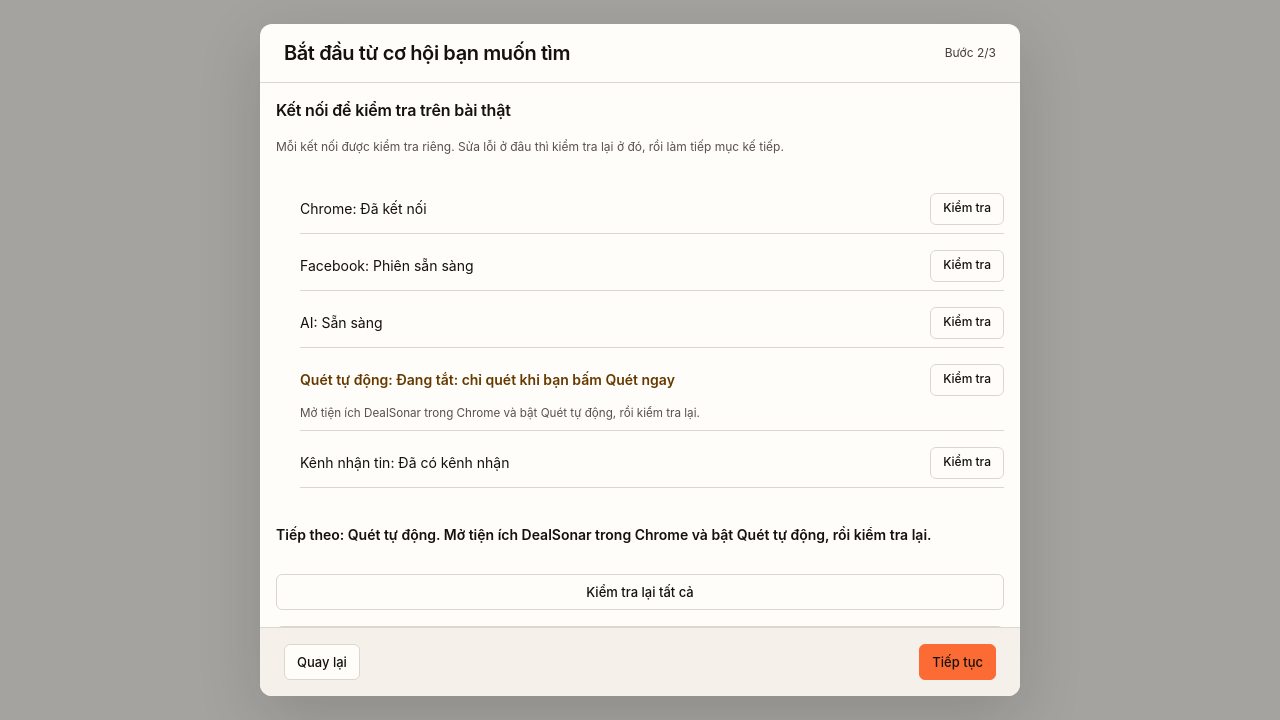
Test case: first-run connection checks › re-checks one connection, then moves on to the next, and resumes where the user left off
Check: the heading "Kết nối để kiểm tra trên bài thật" is shown, box [276,100,511,120]
Check: the text "Chrome: Đã kết nối" is shown, box [300,200,427,217]
Click the button with aria-label "Kiểm tra Quét tự động" at [967, 380], box [930,364,1004,396]
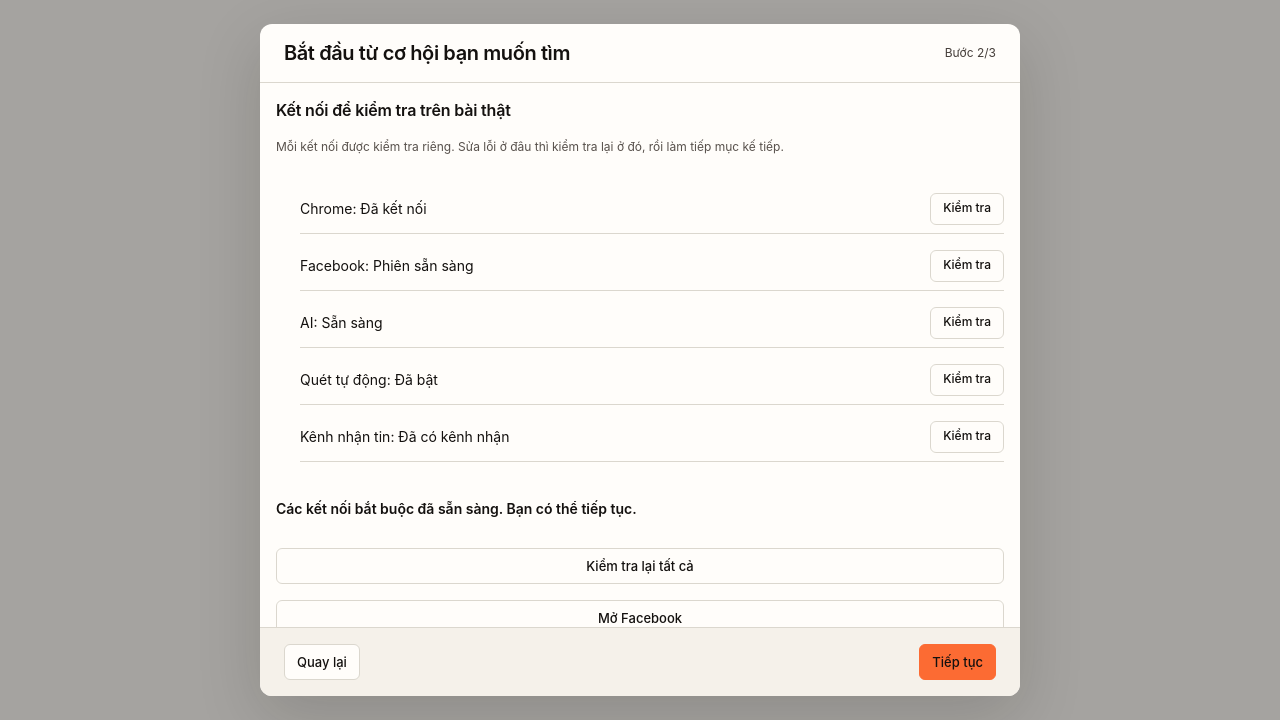
Check: the message shows "Các kết nối bắt buộc đã sẵn sàng", box [276,500,637,517]
Check: the text "Quét tự động: Đã bật" is shown, box [300,371,438,388]
